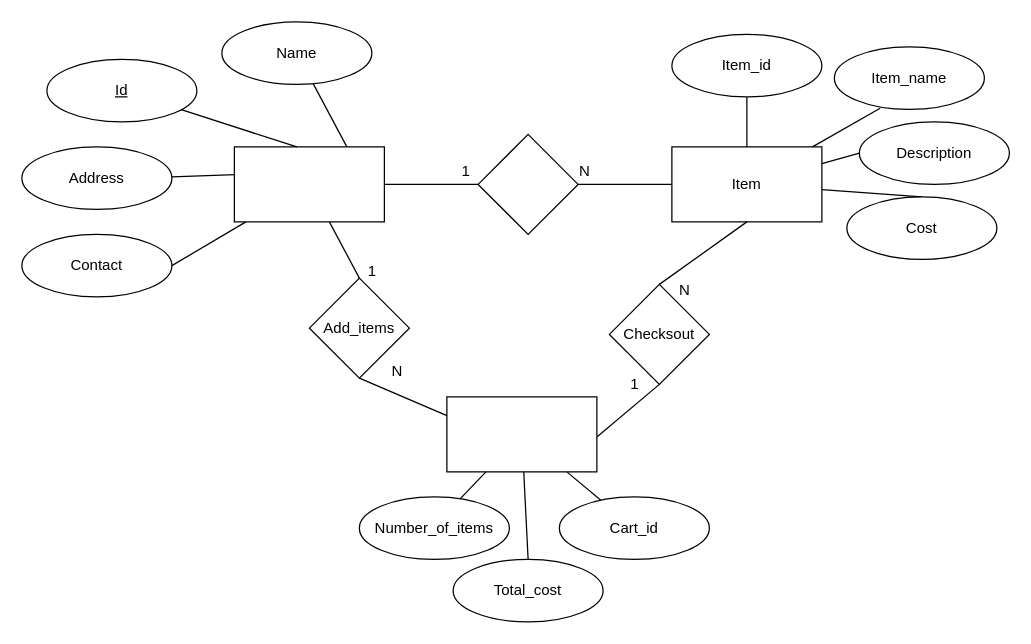
Image size: 1031x644. Some labels were removed from this diagram. The centre of each missing label's shape, as x and y in pixels:
Cart: point (521, 434)
chooses: point (527, 183)
User: point (308, 184)
